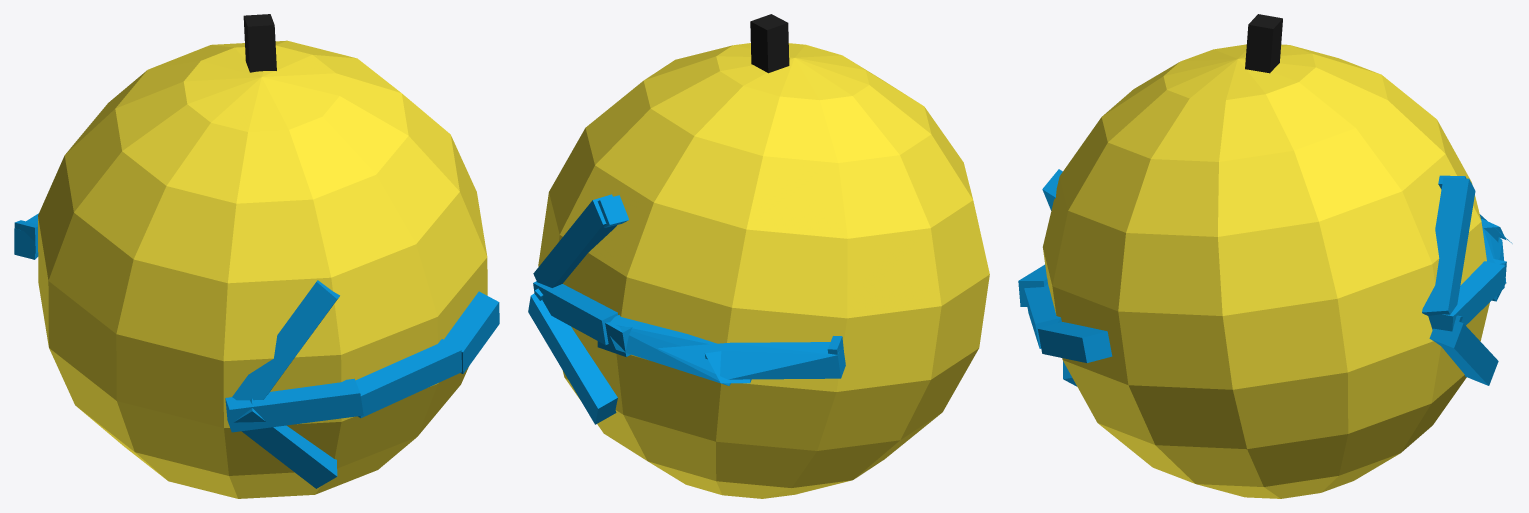
File: Slow_Adam.fbx
The picture shows the model from 3 angles, left to right: view 1: azimuth 30°, elevation 25°; view 2: azimuth 150°, elevation 25°; view 3: azimuth 270°, elevation 25°; orthographic projection.
Visible parts, largest first — view 1: mesh_661053880, group_19036757, group_661401975, group_211635759, group_166051879, group_1599596611, group_1536437053, group_34370586; view 2: mesh_661053880, group_34370586, group_573090189, group_730424191, group_425452993, group_1207768378, group_1536437053, group_645153526, group_2058490718; view 3: mesh_661053880, group_730424191, group_1599596611, group_1207768378, group_573090189, group_1536437053, group_661401975, group_19036757.
Part boxes in pixels (x1,y1,x2,y2): mesh_661053880: (38, 40, 487, 498); group_19036757: (225, 378, 363, 432); group_661401975: (355, 339, 461, 418); group_211635759: (232, 280, 339, 400); group_166051879: (234, 398, 337, 488); group_1599596611: (444, 291, 499, 373); group_1536437053: (243, 14, 276, 72); group_34370586: (14, 213, 38, 259); mesh_661053880: (538, 43, 989, 498); group_34370586: (658, 342, 845, 379); group_573090189: (528, 293, 617, 424); group_730424191: (533, 194, 616, 287); group_425452993: (610, 315, 730, 385); group_1207768378: (533, 281, 617, 345); group_1536437053: (750, 14, 789, 73); group_645153526: (597, 195, 628, 227); group_2058490718: (597, 322, 632, 356); mesh_661053880: (1042, 44, 1489, 498); group_730424191: (1422, 177, 1475, 315); group_1599596611: (1038, 322, 1112, 362); group_1207768378: (1428, 261, 1505, 331); group_573090189: (1429, 320, 1498, 385); group_1536437053: (1245, 14, 1282, 73); group_661401975: (1024, 284, 1061, 348); group_19036757: (1018, 264, 1047, 306).
Size of the model in its own units: 23.56 by 26.23 by 26.09.
